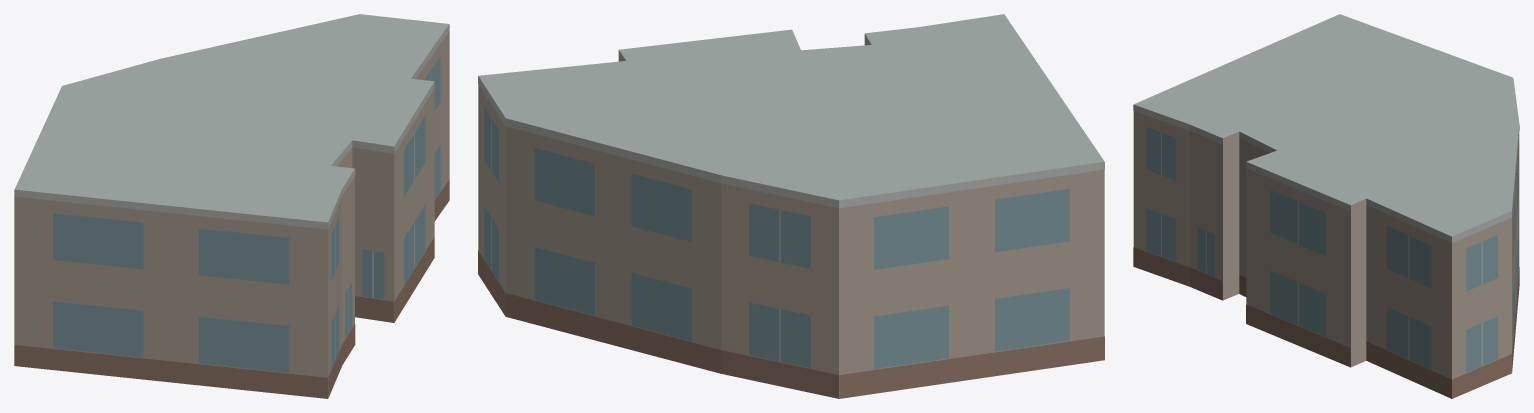
Rendered from survey-upis-32759559.glb.
3 views of the same model, side by side, from view 1: azimuth 30°, elevation 25°; view 2: azimuth 150°, elevation 25°; view 3: azimuth 270°, elevation 25° (orthographic). The views are drawn at different scales.
Parts seen in each view (by area): view 1: survey-upis-32759559.tmp; view 2: survey-upis-32759559.tmp; view 3: survey-upis-32759559.tmp.
Part boxes in pixels (x1=…): survey-upis-32759559.tmp: x1=14, y1=14, x2=449, y2=398; survey-upis-32759559.tmp: x1=478, y1=14, x2=1104, y2=398; survey-upis-32759559.tmp: x1=1133, y1=14, x2=1519, y2=398.
Bounding box in the file's own units: 17.96 × 6.1 × 13.16.
